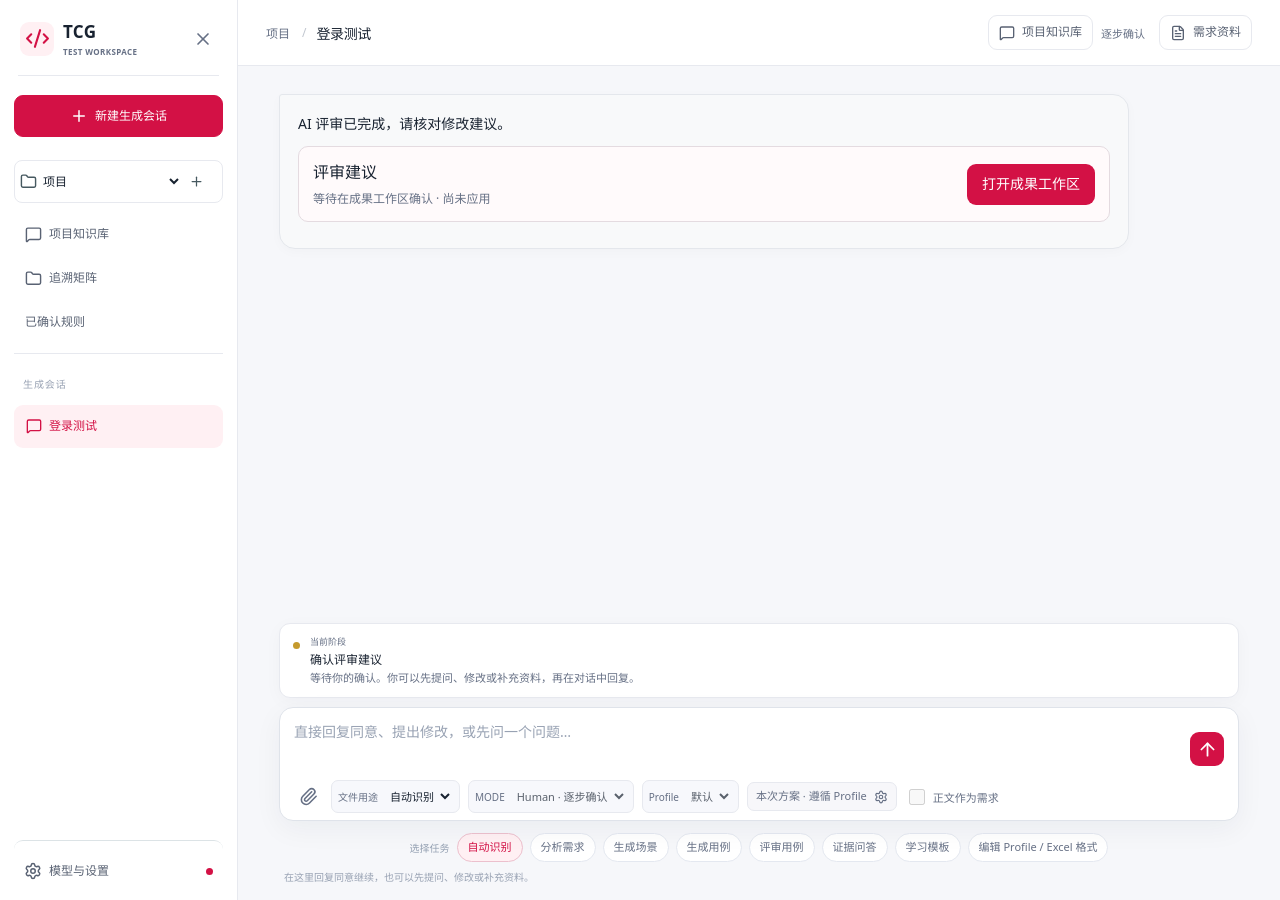
pending review opens full-screen from its assistant card and returning preserves the main composer draft
This screenshot has width=1280, height=900.
Type "主对话保留的问题草稿" into the text box named "聊天输入" at (737, 744), box [294,720,1180,768]
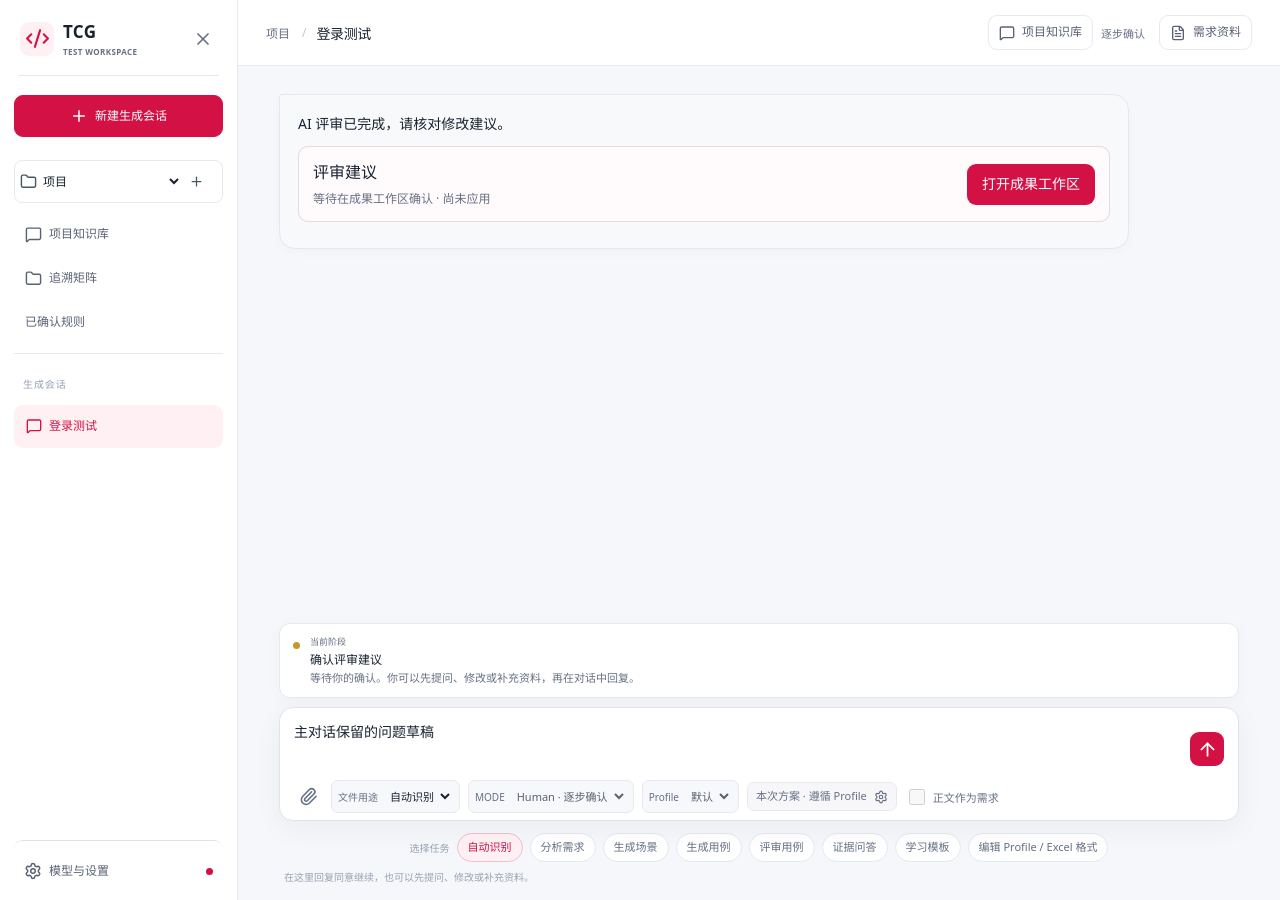
Click the button "打开成果工作区" at (1031, 184), box [967,164,1095,205]
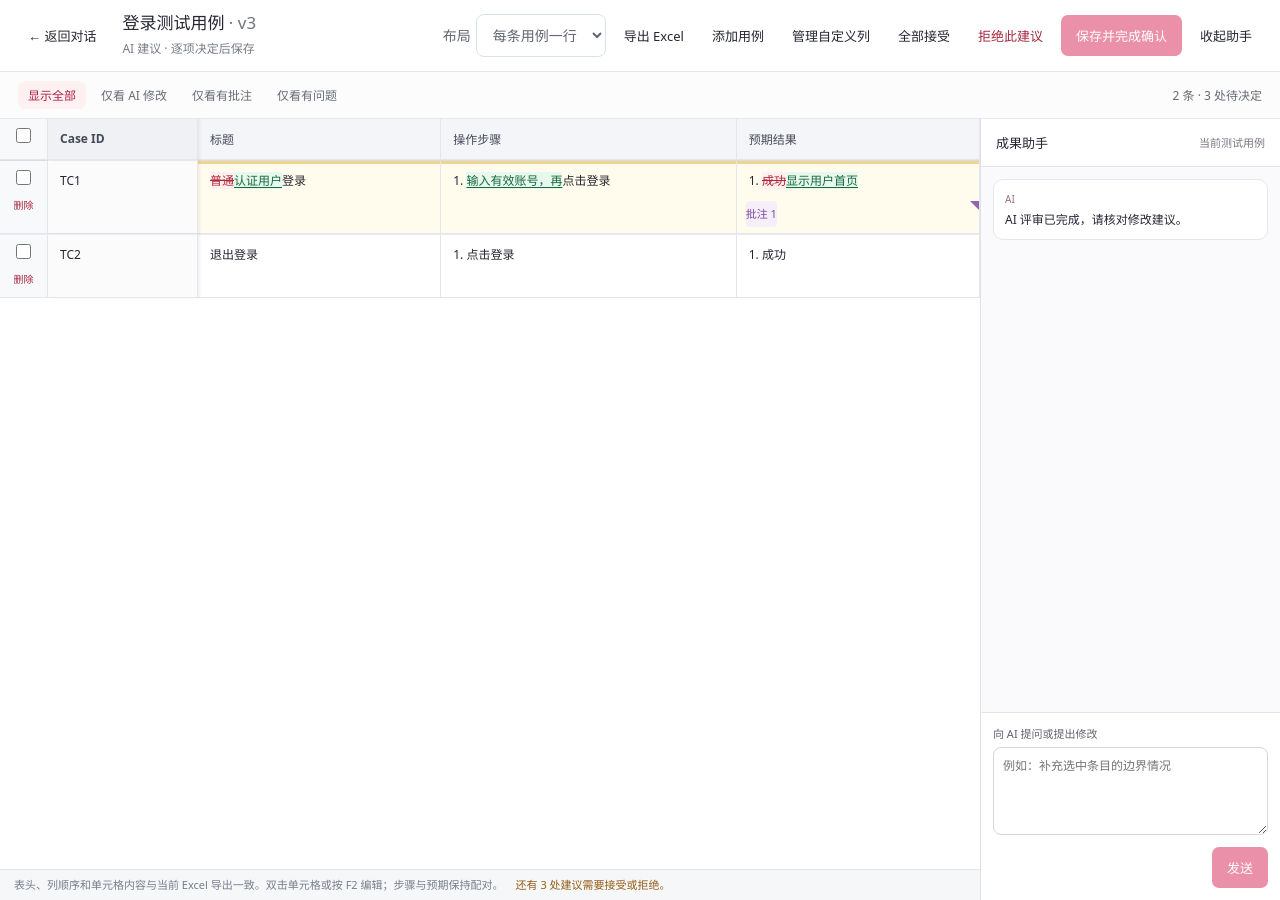
Now the table is shown, box [0,119,980,298]
Now the heading "登录测试用例 · v3" is shown, box [122,12,256,35]
Click the button "← 返回对话" at (62, 36), box [18,18,106,53]
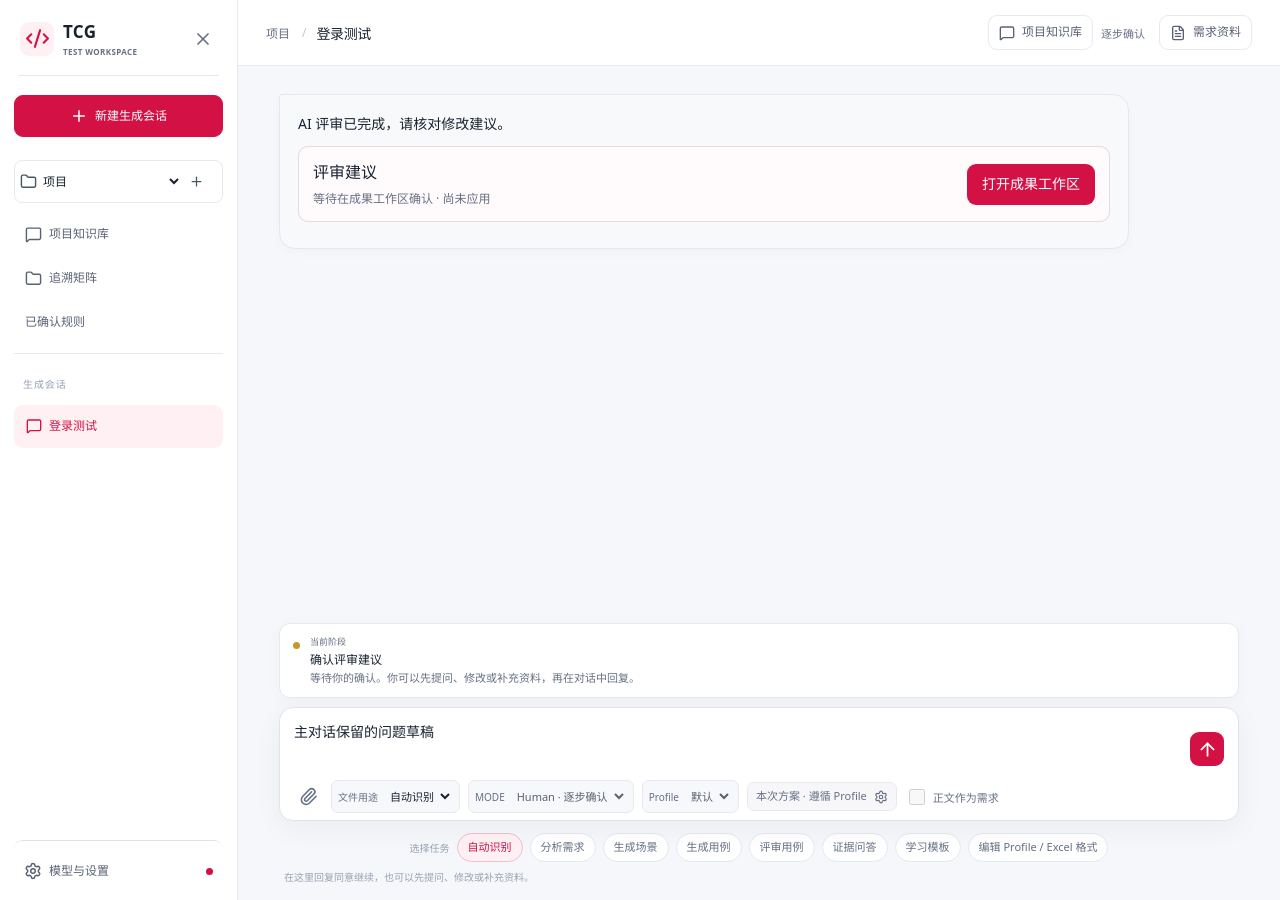
Now the dialog is gone
